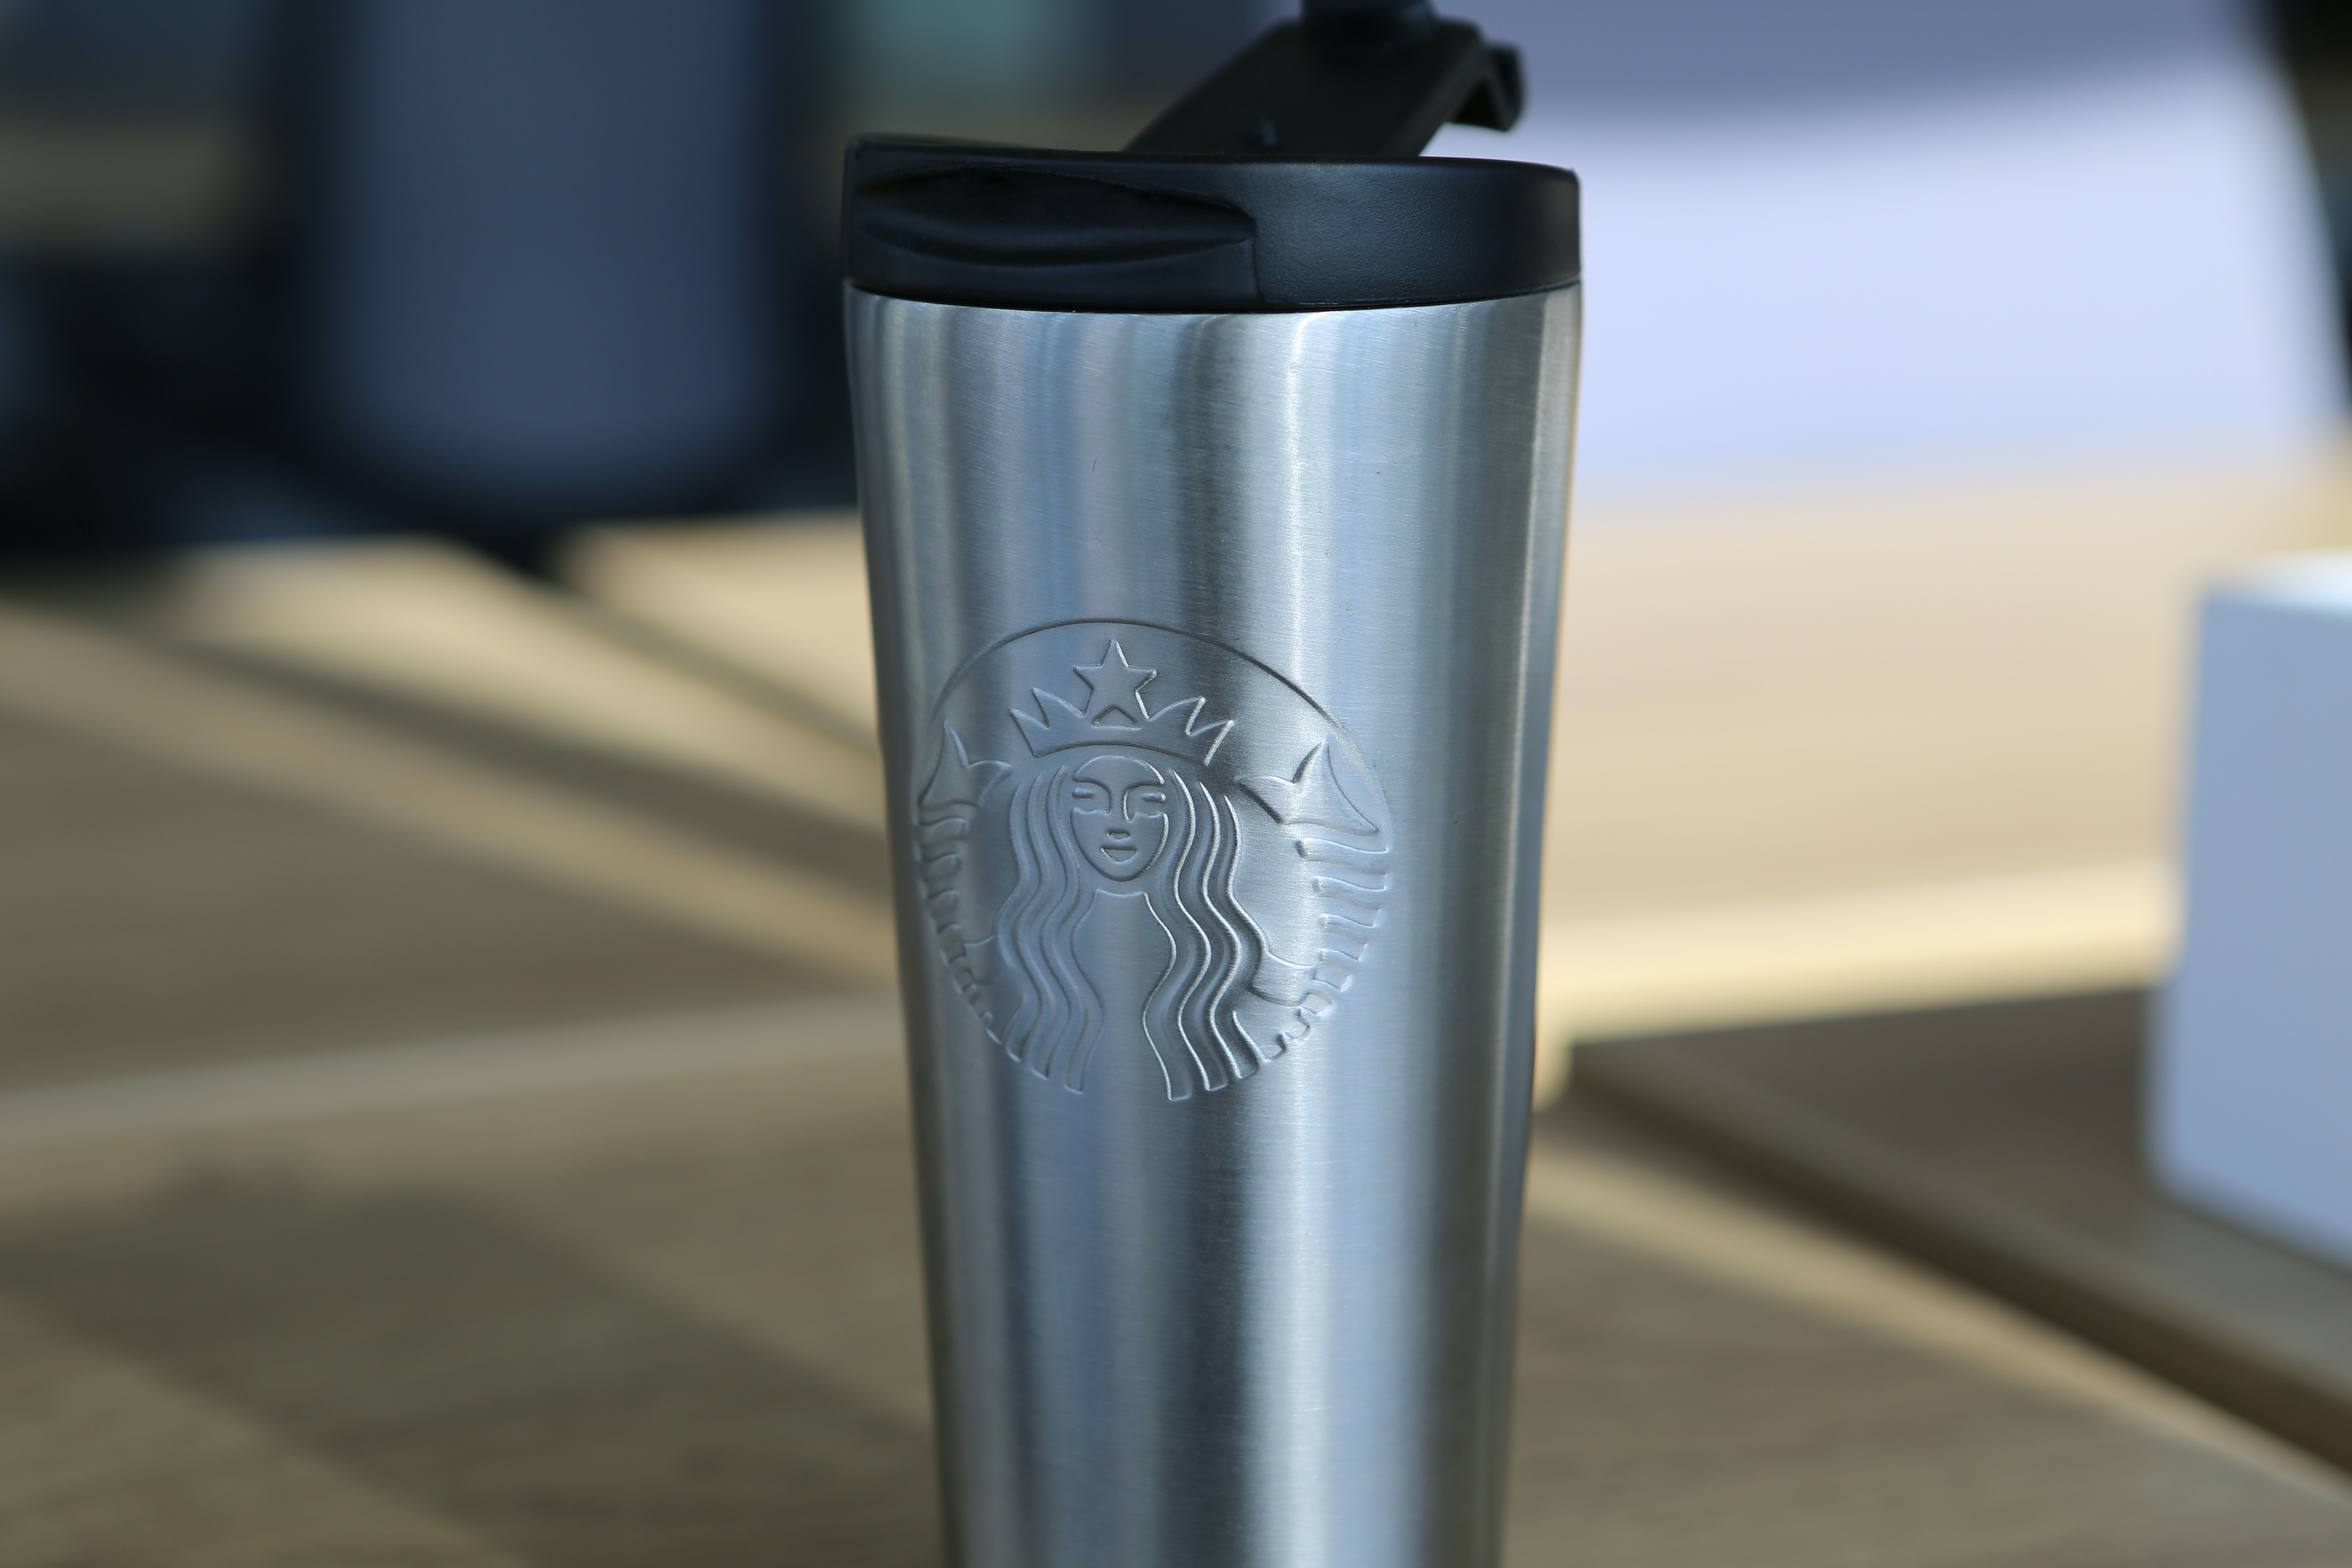Tumbler: (786, 14, 1615, 1568)
